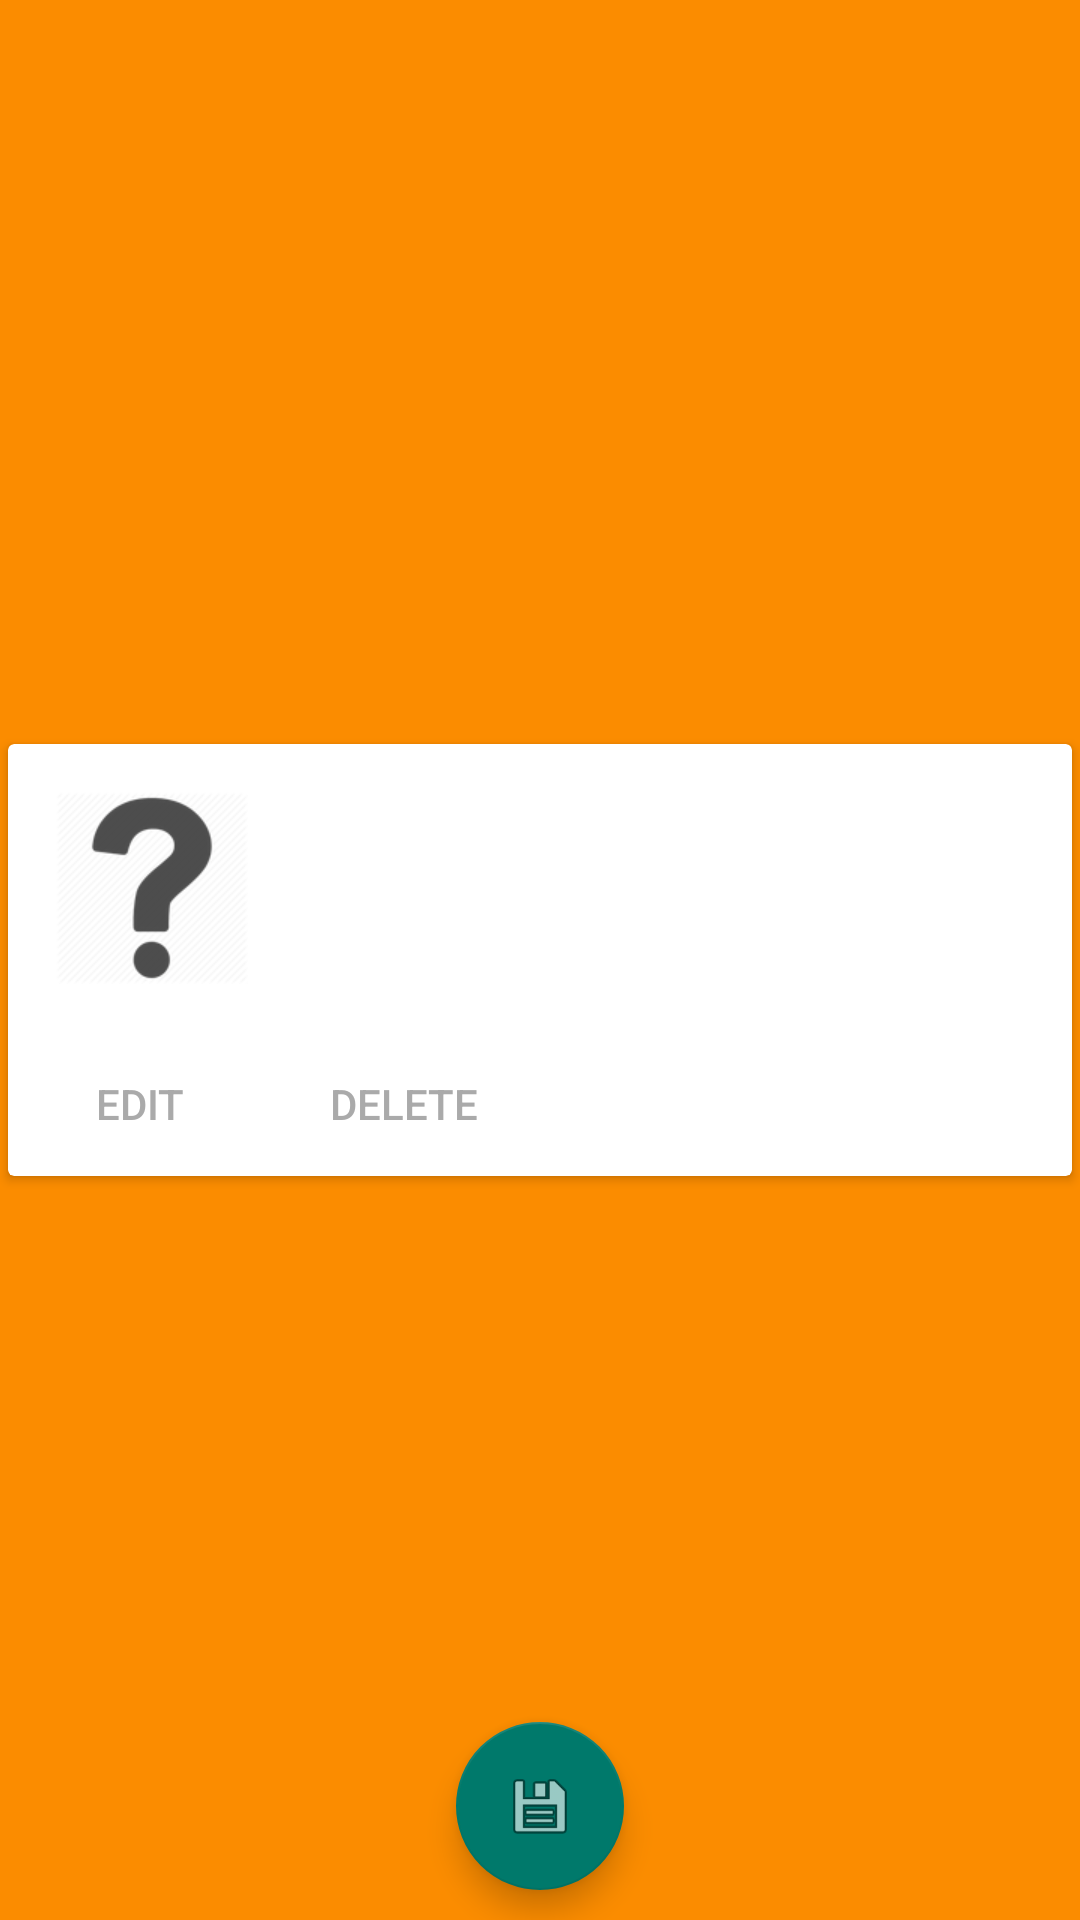

Icons on this 1080px x 1920px Android screen, each with the point to tap as (x,y):
quest: (152,888)
save: (540,1806)
